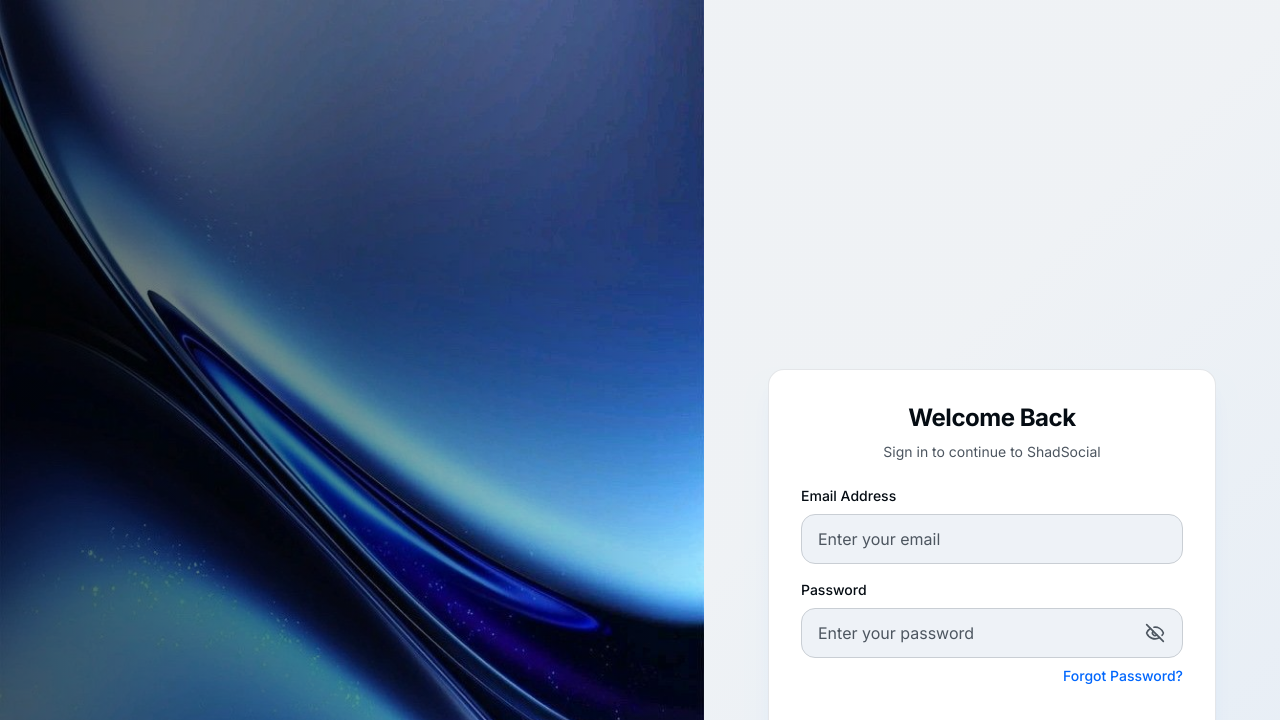
Test: Login Component › Form Submission › should show loading state during submission
This screenshot has width=1280, height=720.
In the field labelled "Email Address": (992, 539) [801, 514, 1183, 564], type "test@example.com"
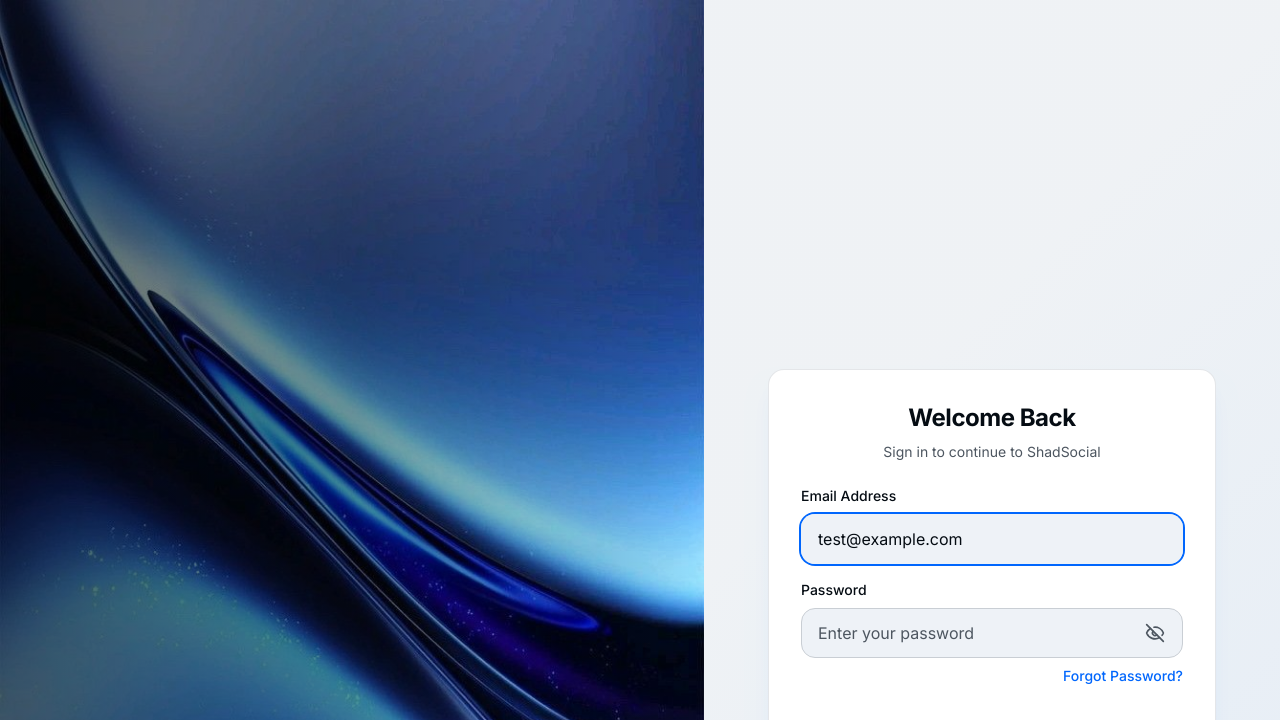
In the password field labelled "Password": (992, 633) [801, 608, 1183, 658], type "password123"
(page scrolled)
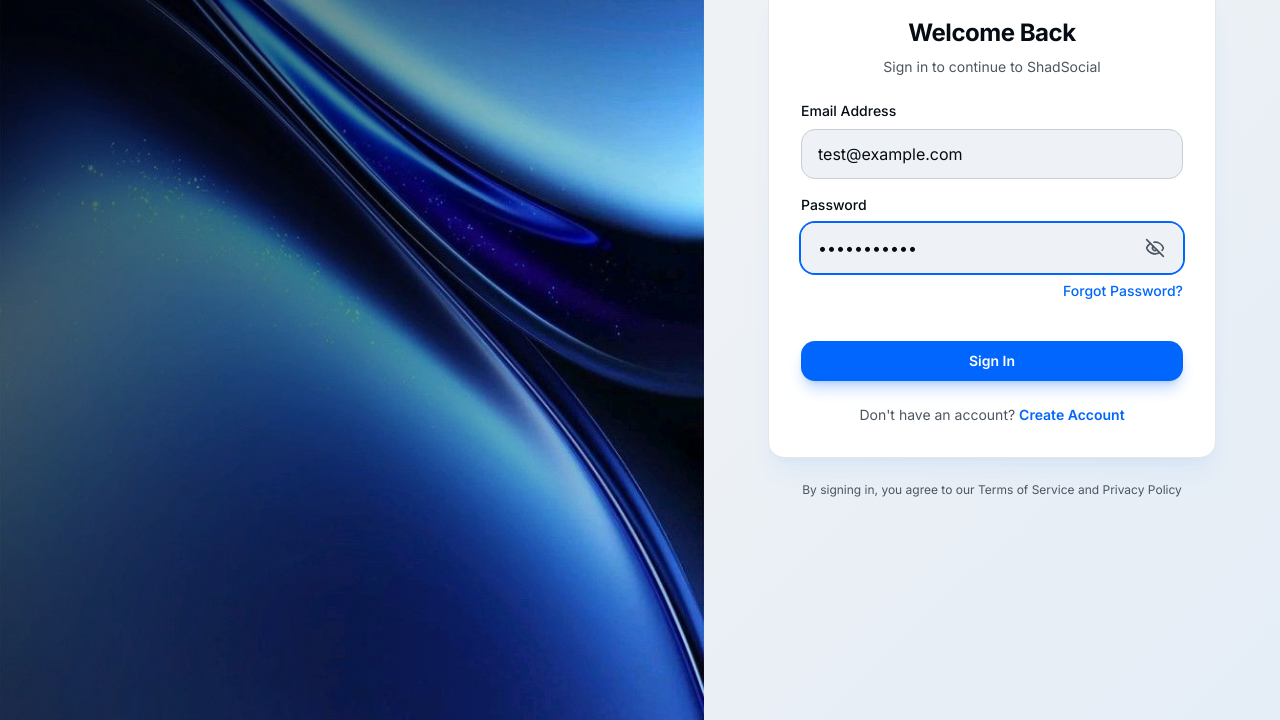
Click the button "Sign In": (992, 361) [801, 341, 1183, 381]
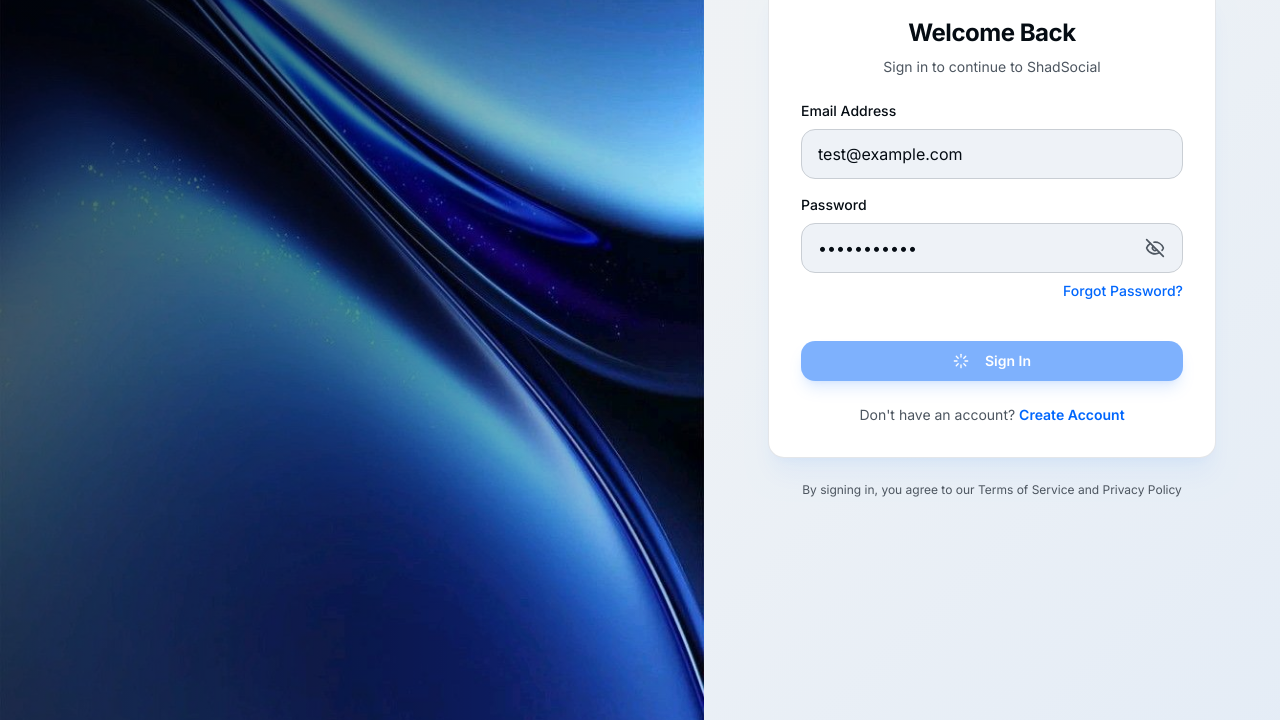
Now the button "Sign In" is disabled, box [801, 341, 1183, 381]
